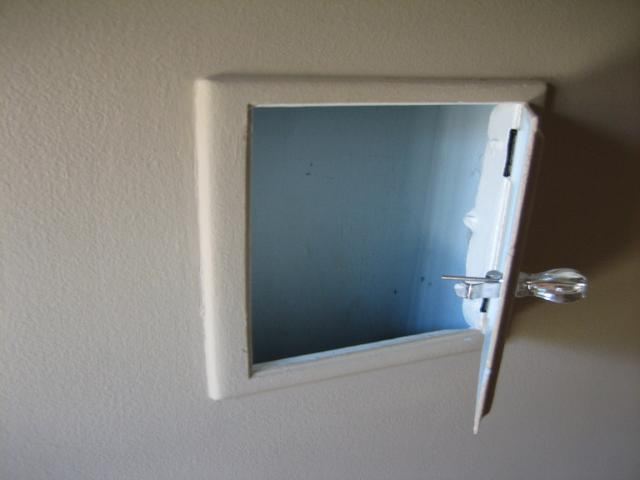Door-handle: (508, 266, 595, 308)
